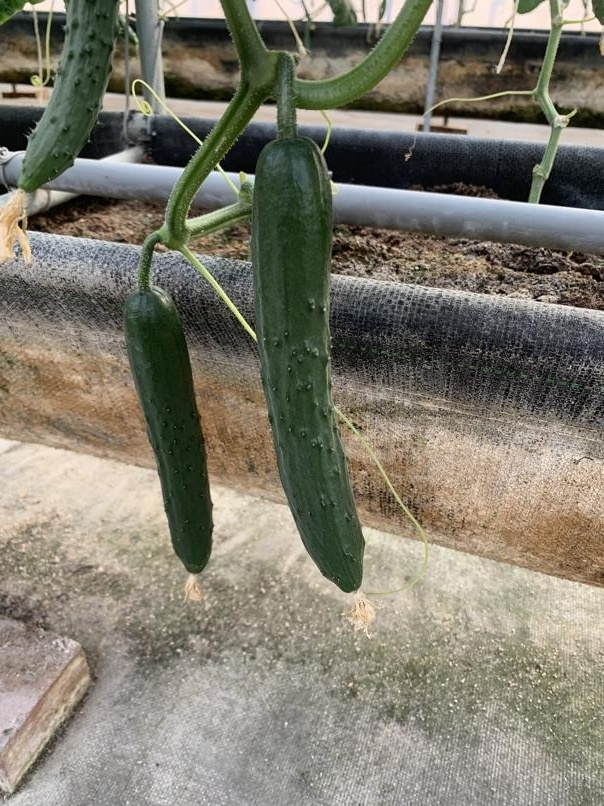mature: (247, 125, 371, 602), (118, 282, 216, 579), (11, 0, 135, 198), (0, 643, 98, 805)
